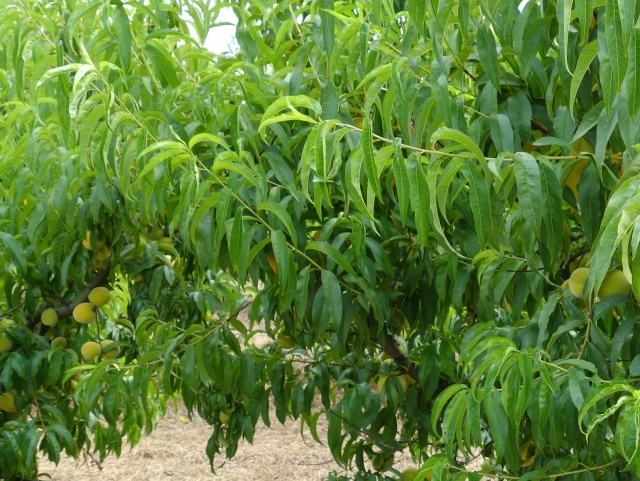peach: (598, 268, 632, 306), (563, 263, 598, 299), (75, 227, 107, 254), (69, 300, 99, 325), (95, 336, 124, 361), (87, 283, 114, 309), (76, 339, 104, 363), (35, 306, 61, 330), (1, 387, 20, 415), (48, 334, 70, 352)
